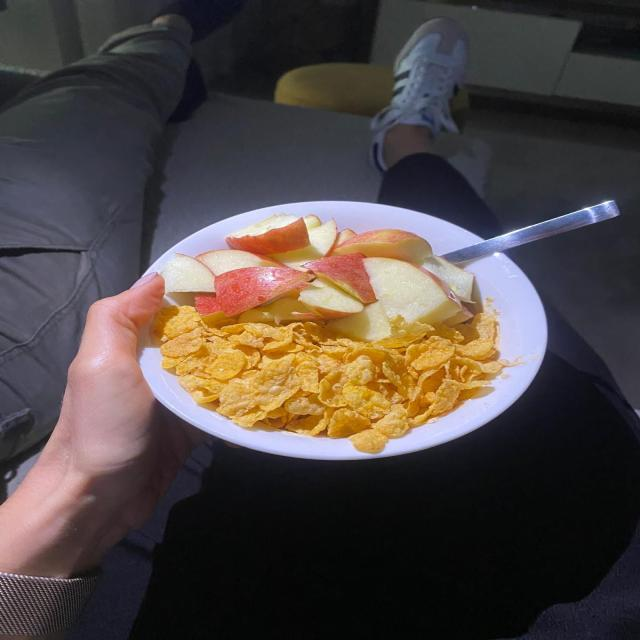apple: (160, 214, 474, 341)
chips: (161, 308, 500, 449)
knife: (441, 200, 619, 265)
plate: (141, 202, 546, 460)
